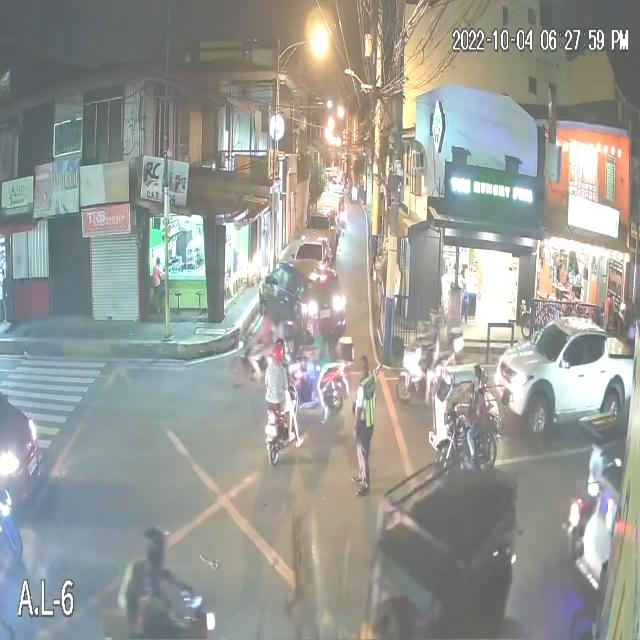Full-Faced: (130, 543, 169, 600), (142, 520, 168, 559), (304, 310, 321, 349), (272, 342, 286, 369)
